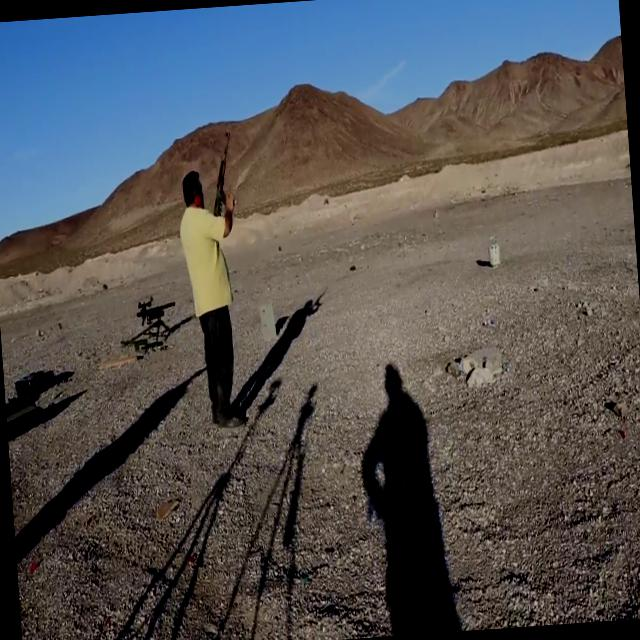long weapon: (203, 121, 246, 258), (124, 277, 188, 349)
